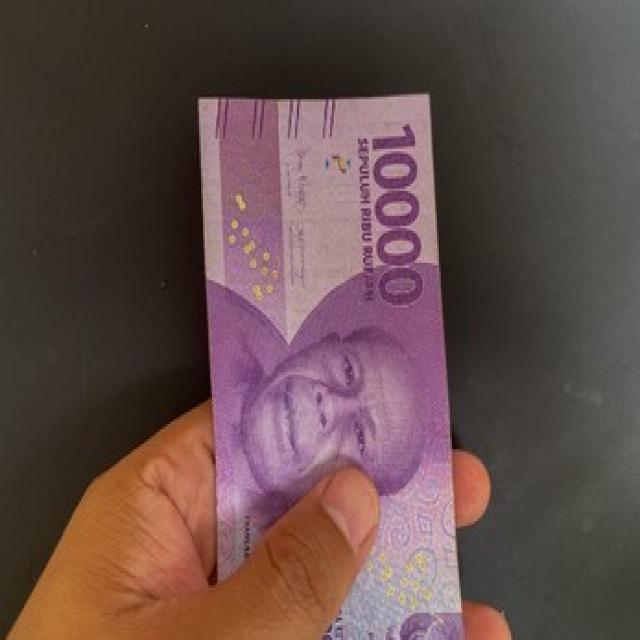sepuluh ribu rupiah: (193, 91, 468, 640), (252, 312, 419, 509), (363, 110, 430, 308)
